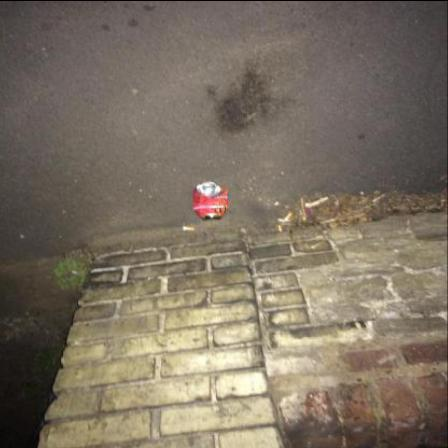Can: (195, 182, 231, 220)
Cigarette: (286, 213, 294, 221), (185, 226, 196, 230)
